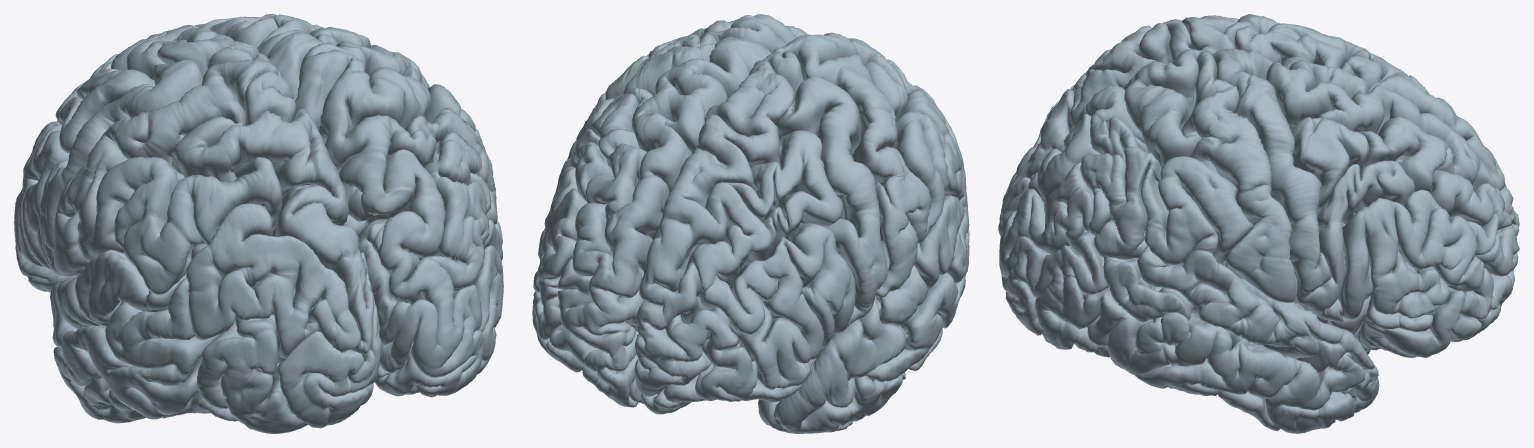
Rendered from NeuroAtlas_BigBrain_Cortex.glb.
The picture shows the model from 3 angles, left to right: view 1: azimuth 30°, elevation 25°; view 2: azimuth 150°, elevation 25°; view 3: azimuth 270°, elevation 25°; orthographic projection. The views are drawn at different scales.
Parts seen in each view (by area): view 1: left lateraloccipital, left inferiorparietal, right lateraloccipital, left postcentral, right superiorparietal, left superiorparietal, left middletemporal, right inferiorparietal, left supramarginal, left precentral, left superiortemporal, right precuneus (+19 smaller); view 2: right superiorfrontal, left superiorfrontal, left rostralmiddlefrontal, left superiortemporal, left postcentral, left precentral, left middletemporal, left parstriangularis, left caudalmiddlefrontal, right rostralmiddlefrontal, left parsopercularis, left supramarginal (+11 smaller); view 3: right superiorfrontal, right middletemporal, right postcentral, right inferiorparietal, right superiortemporal, right rostralmiddlefrontal, right precentral, right lateraloccipital, right superiorparietal, left superiorfrontal, right supramarginal, right inferiortemporal (+13 smaller).
Part boxes in pixels (x1=…): left lateraloccipital: x1=196, y1=233, x2=374, y2=433; left inferiorparietal: x1=123, y1=157, x2=315, y2=340; right lateraloccipital: x1=380, y1=229, x2=503, y2=397; left postcentral: x1=53, y1=56, x2=296, y2=274; right superiorparietal: x1=330, y1=58, x2=445, y2=260; left superiorparietal: x1=172, y1=111, x2=351, y2=269; left middletemporal: x1=53, y1=302, x2=221, y2=419; right inferiorparietal: x1=423, y1=108, x2=497, y2=264; left supramarginal: x1=77, y1=156, x2=184, y2=298; left precentral: x1=39, y1=43, x2=257, y2=276; left superiortemporal: x1=50, y1=249, x2=169, y2=347; right precuneus: x1=318, y1=52, x2=417, y2=235; right superiorfrontal: x1=556, y1=58, x2=728, y2=383; left superiorfrontal: x1=635, y1=52, x2=811, y2=394; left rostralmiddlefrontal: x1=692, y1=182, x2=784, y2=402; left superiortemporal: x1=758, y1=195, x2=964, y2=433; left postcentral: x1=784, y1=32, x2=929, y2=297; left precentral: x1=769, y1=48, x2=887, y2=333; left middletemporal: x1=808, y1=200, x2=969, y2=432; left parstriangularis: x1=742, y1=236, x2=823, y2=389; left caudalmiddlefrontal: x1=750, y1=130, x2=845, y2=239; right rostralmiddlefrontal: x1=532, y1=142, x2=614, y2=353; left parsopercularis: x1=785, y1=223, x2=855, y2=346; left supramarginal: x1=892, y1=110, x2=962, y2=243; right superiorfrontal: x1=1263, y1=60, x2=1519, y2=304; right middletemporal: x1=1103, y1=259, x2=1356, y2=415; right postcentral: x1=1171, y1=49, x2=1297, y2=302; right inferiorparietal: x1=1043, y1=123, x2=1184, y2=265; right superiortemporal: x1=1138, y1=247, x2=1379, y2=419; right rostralmiddlefrontal: x1=1351, y1=150, x2=1498, y2=346; right precentral: x1=1213, y1=49, x2=1347, y2=321; right lateraloccipital: x1=999, y1=169, x2=1113, y2=352; right superiorparietal: x1=1037, y1=61, x2=1201, y2=200; left superiorfrontal: x1=1238, y1=23, x2=1519, y2=235; right supramarginal: x1=1137, y1=156, x2=1254, y2=279; right inferiortemporal: x1=1098, y1=299, x2=1350, y2=433.
Size of the model in its own units: 0.1429 by 0.1328 by 0.1804.
